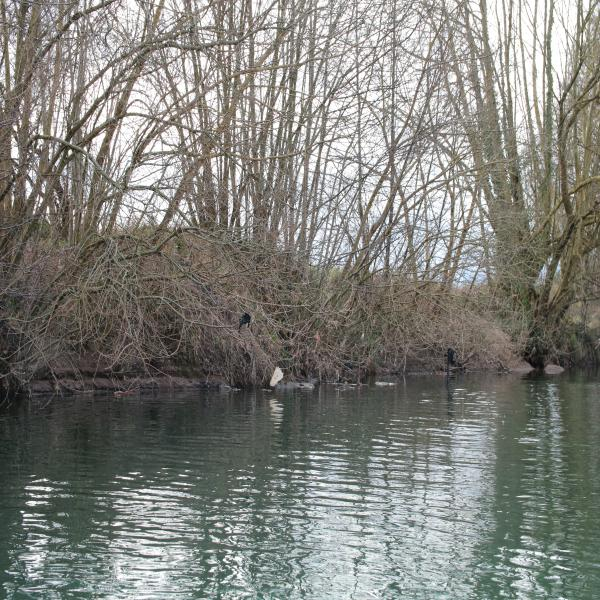fragments: (237, 312, 250, 333), (448, 349, 454, 375)
